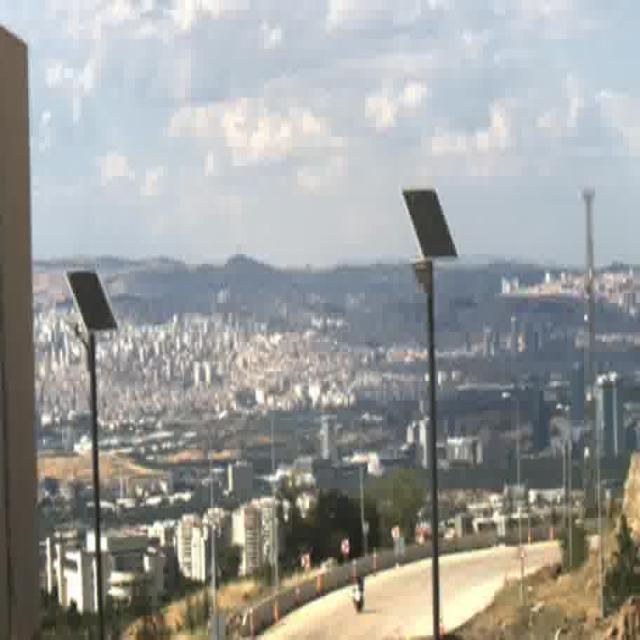Motorcycle: (352, 576, 364, 610)
